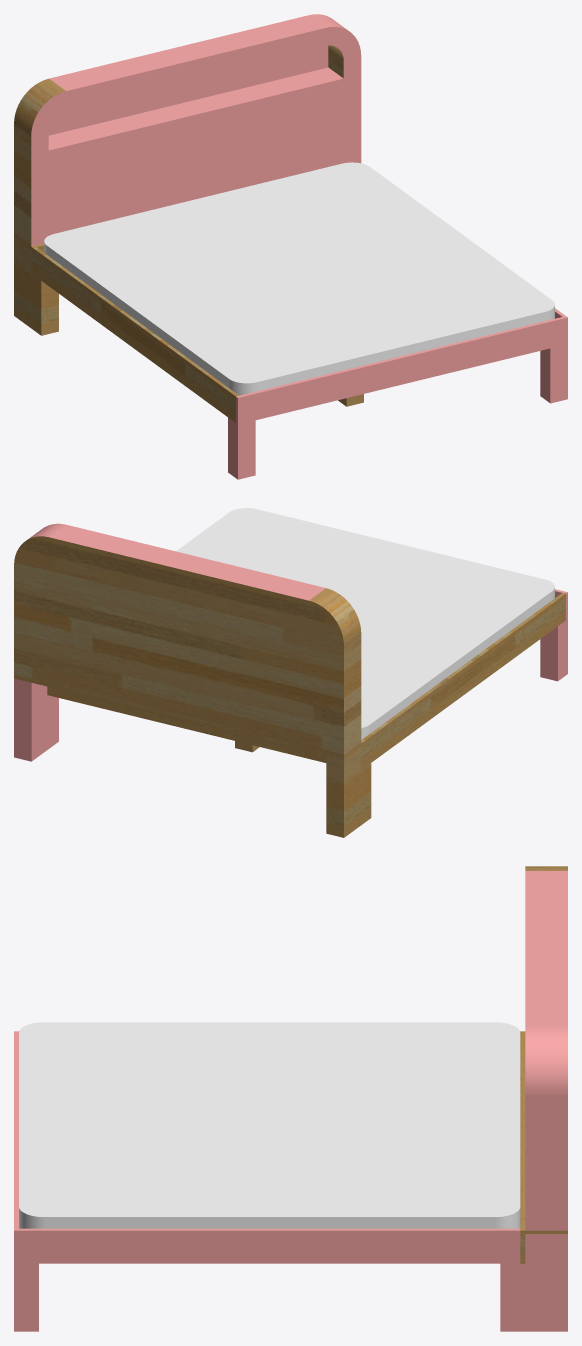
3 views of the same model, one above another, from view 1: azimuth 30°, elevation 25°; view 2: azimuth 150°, elevation 25°; view 3: azimuth 270°, elevation 25° (orthographic). The views are drawn at different scales.
Visible parts, largest first — view 1: Root Node, 646601, 646600, 646606, 646598, 646627, 646607; view 2: Root Node, 646600, 646627, 646610, 646988, 646606, 646628, 646607, 646608; view 3: Root Node, 646602, 646610, 646608, 646598, 646599, 646601.
Part boxes in pixels (x1,y1,x2,y2): Root Node: [14, 14, 554, 395]; 646601: [236, 316, 567, 424]; 646600: [33, 247, 238, 422]; 646606: [228, 417, 255, 479]; 646598: [540, 344, 567, 403]; 646627: [14, 237, 31, 327]; 646607: [31, 273, 58, 335]; Root Node: [14, 508, 554, 755]; 646600: [361, 593, 565, 768]; 646627: [326, 746, 361, 837]; 646610: [14, 678, 48, 761]; 646988: [47, 686, 326, 762]; 646606: [540, 619, 567, 681]; 646628: [14, 675, 361, 758]; 646607: [361, 763, 371, 824]; 646608: [48, 695, 58, 748]; Root Node: [19, 866, 567, 1230]; 646602: [19, 1228, 520, 1263]; 646610: [525, 1234, 567, 1331]; 646608: [500, 1263, 525, 1331]; 646598: [14, 1263, 38, 1331]; 646599: [520, 1031, 525, 1263]; 646601: [14, 1031, 18, 1263].
Size of the model in its own units: 1.88 by 1.24 by 2.21.
Materials: 424 (281 with a texture image).
